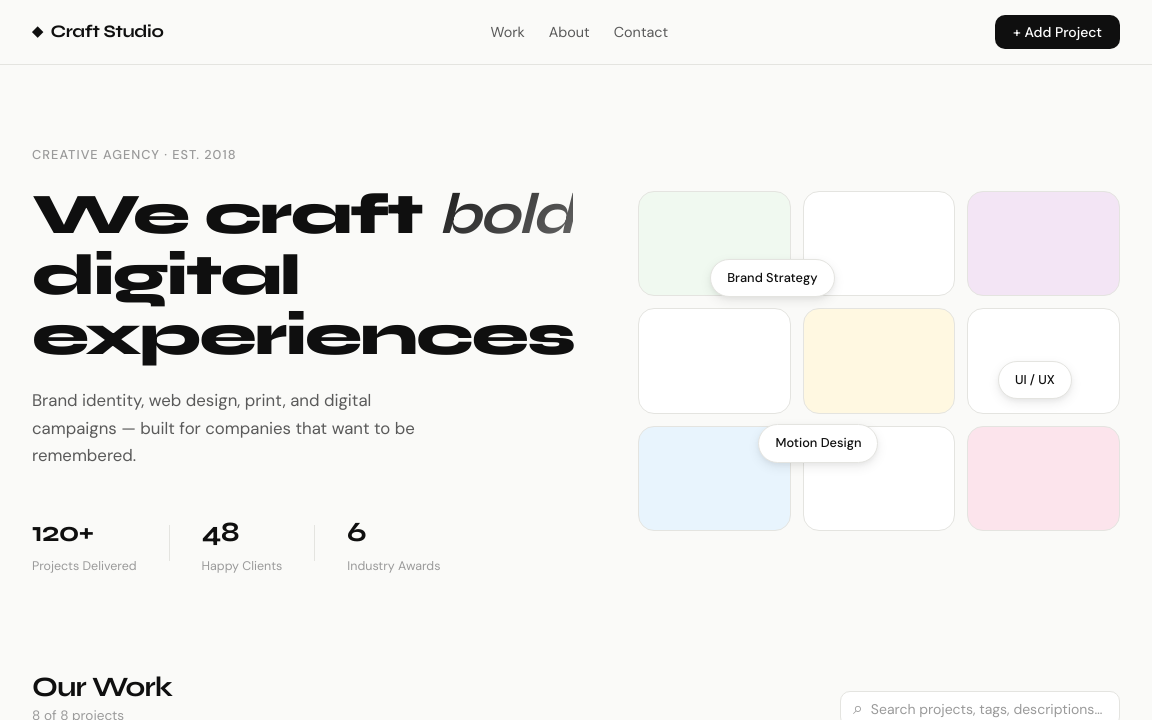
Scenario: App integration › shows empty state when search returns no results
In the field with placeholder "Search projects, tags, descriptions…": coordinates (989, 708) [871, 700, 1107, 718], type "xyznoproject"
(page scrolled)
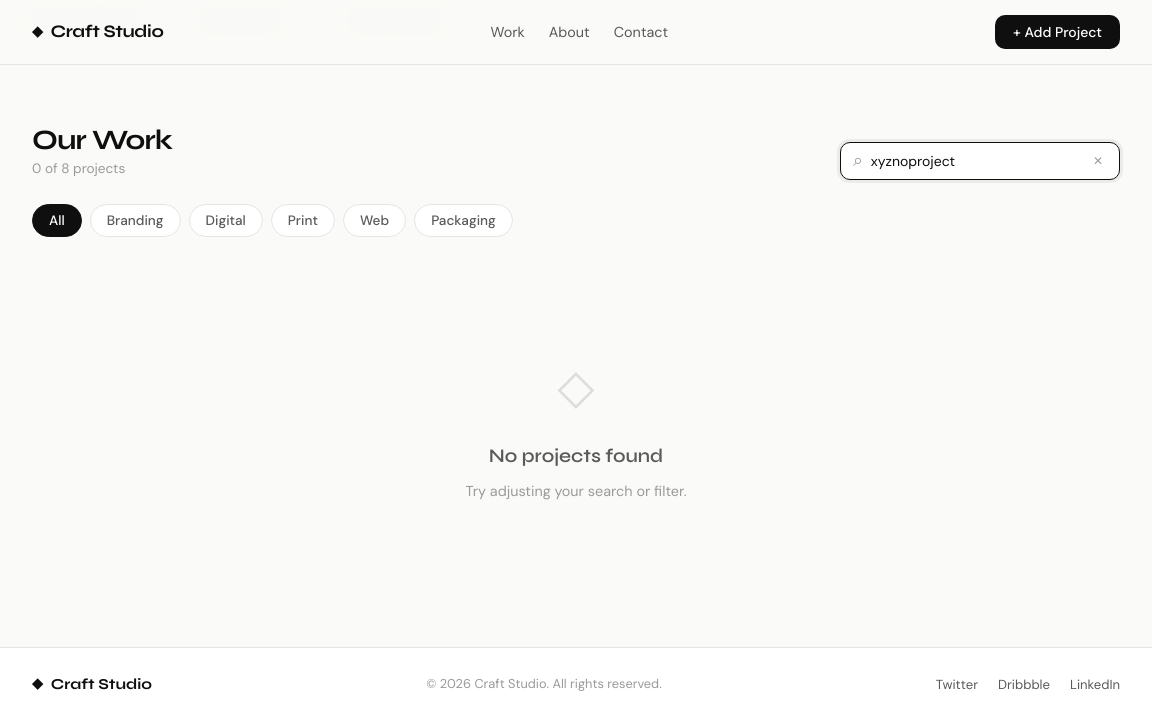
Check: the text "No projects found" is shown, box [489, 444, 663, 467]
